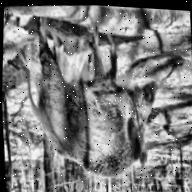boar: (7, 9, 168, 192)
